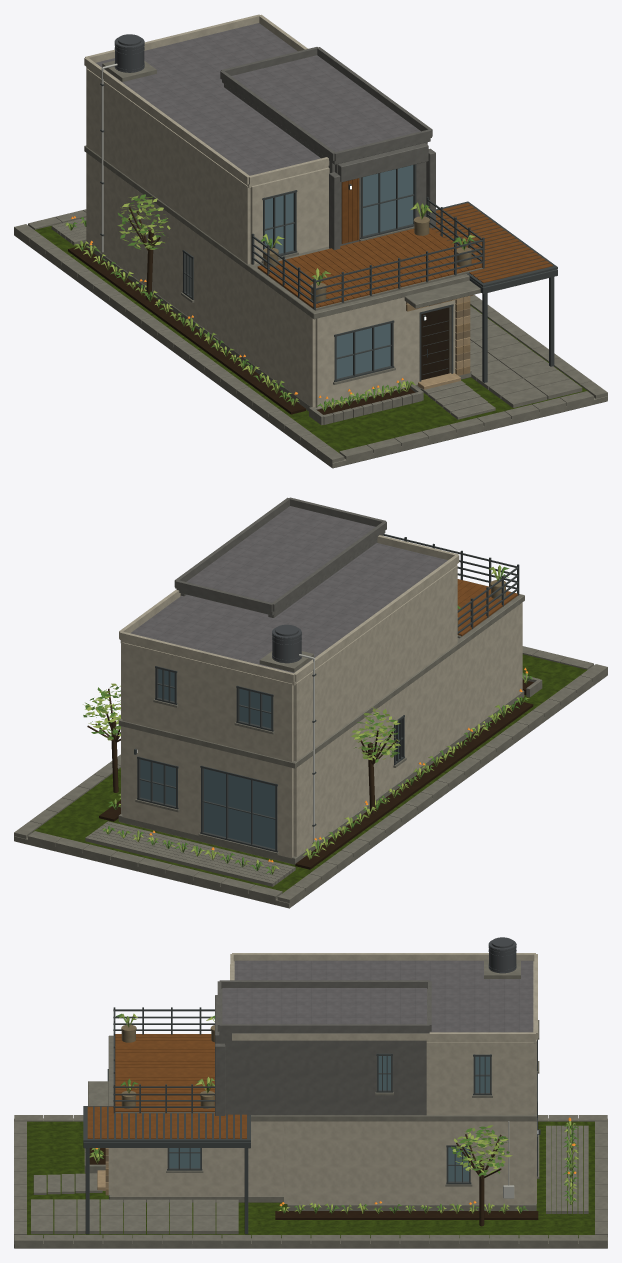
File: casa_ampliada.fbx
3 views of the same model, one above another, from view 1: azimuth 30°, elevation 25°; view 2: azimuth 150°, elevation 25°; view 3: azimuth 270°, elevation 25° (orthographic). The views are drawn at different scales.
Visible parts, largest first — view 1: Casa_Ampliada_02; view 2: Casa_Ampliada_02; view 3: Casa_Ampliada_02.
Boxes of the visible parts, <box> form: Casa_Ampliada_02: <box>14,14,607,468</box>; Casa_Ampliada_02: <box>14,497,607,908</box>; Casa_Ampliada_02: <box>14,937,607,1248</box>.
Bounding box in the file's own units: 1013 × 774 × 2000.
24 materials, 14 textured.
